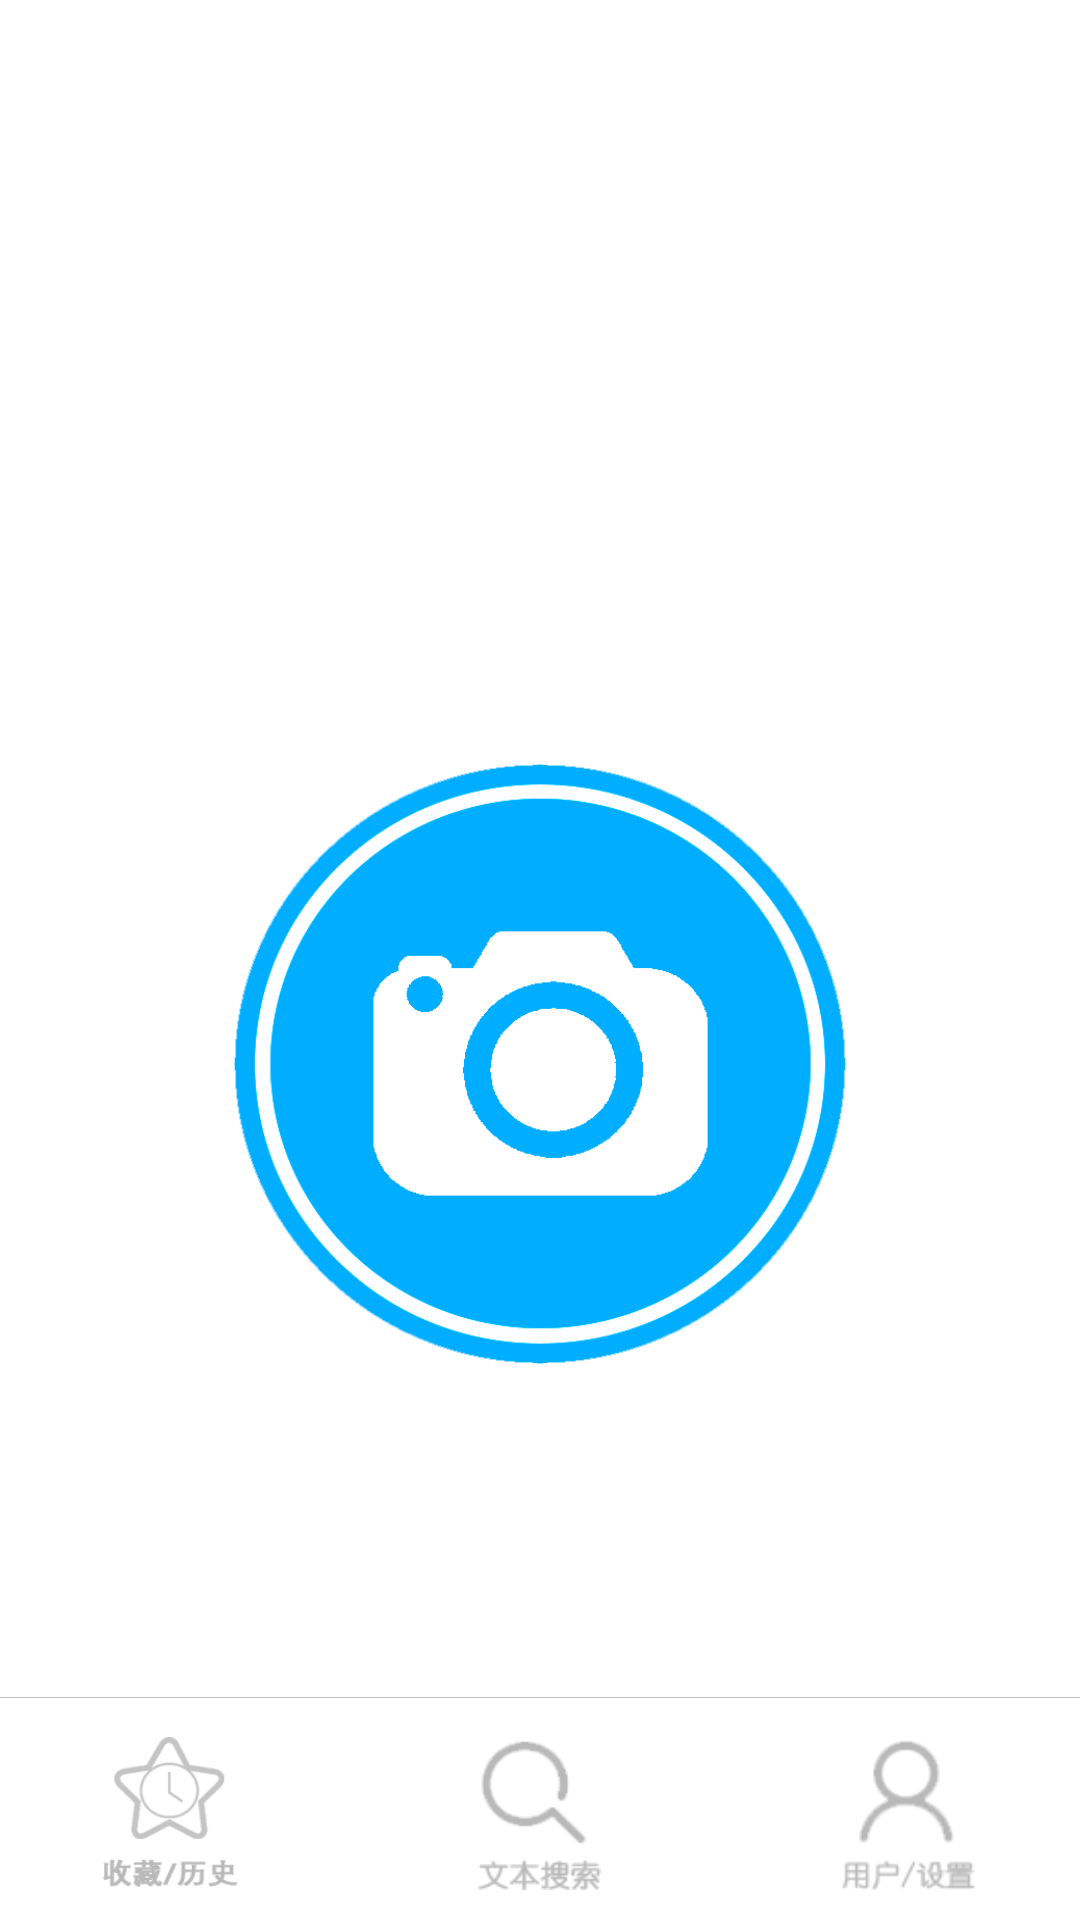

Screen size 1080px x 1920px. Icon name, then its box in pixels as bbox=[x1, y1, x2, y2]:
person: bbox=[843, 1741, 974, 1890]
